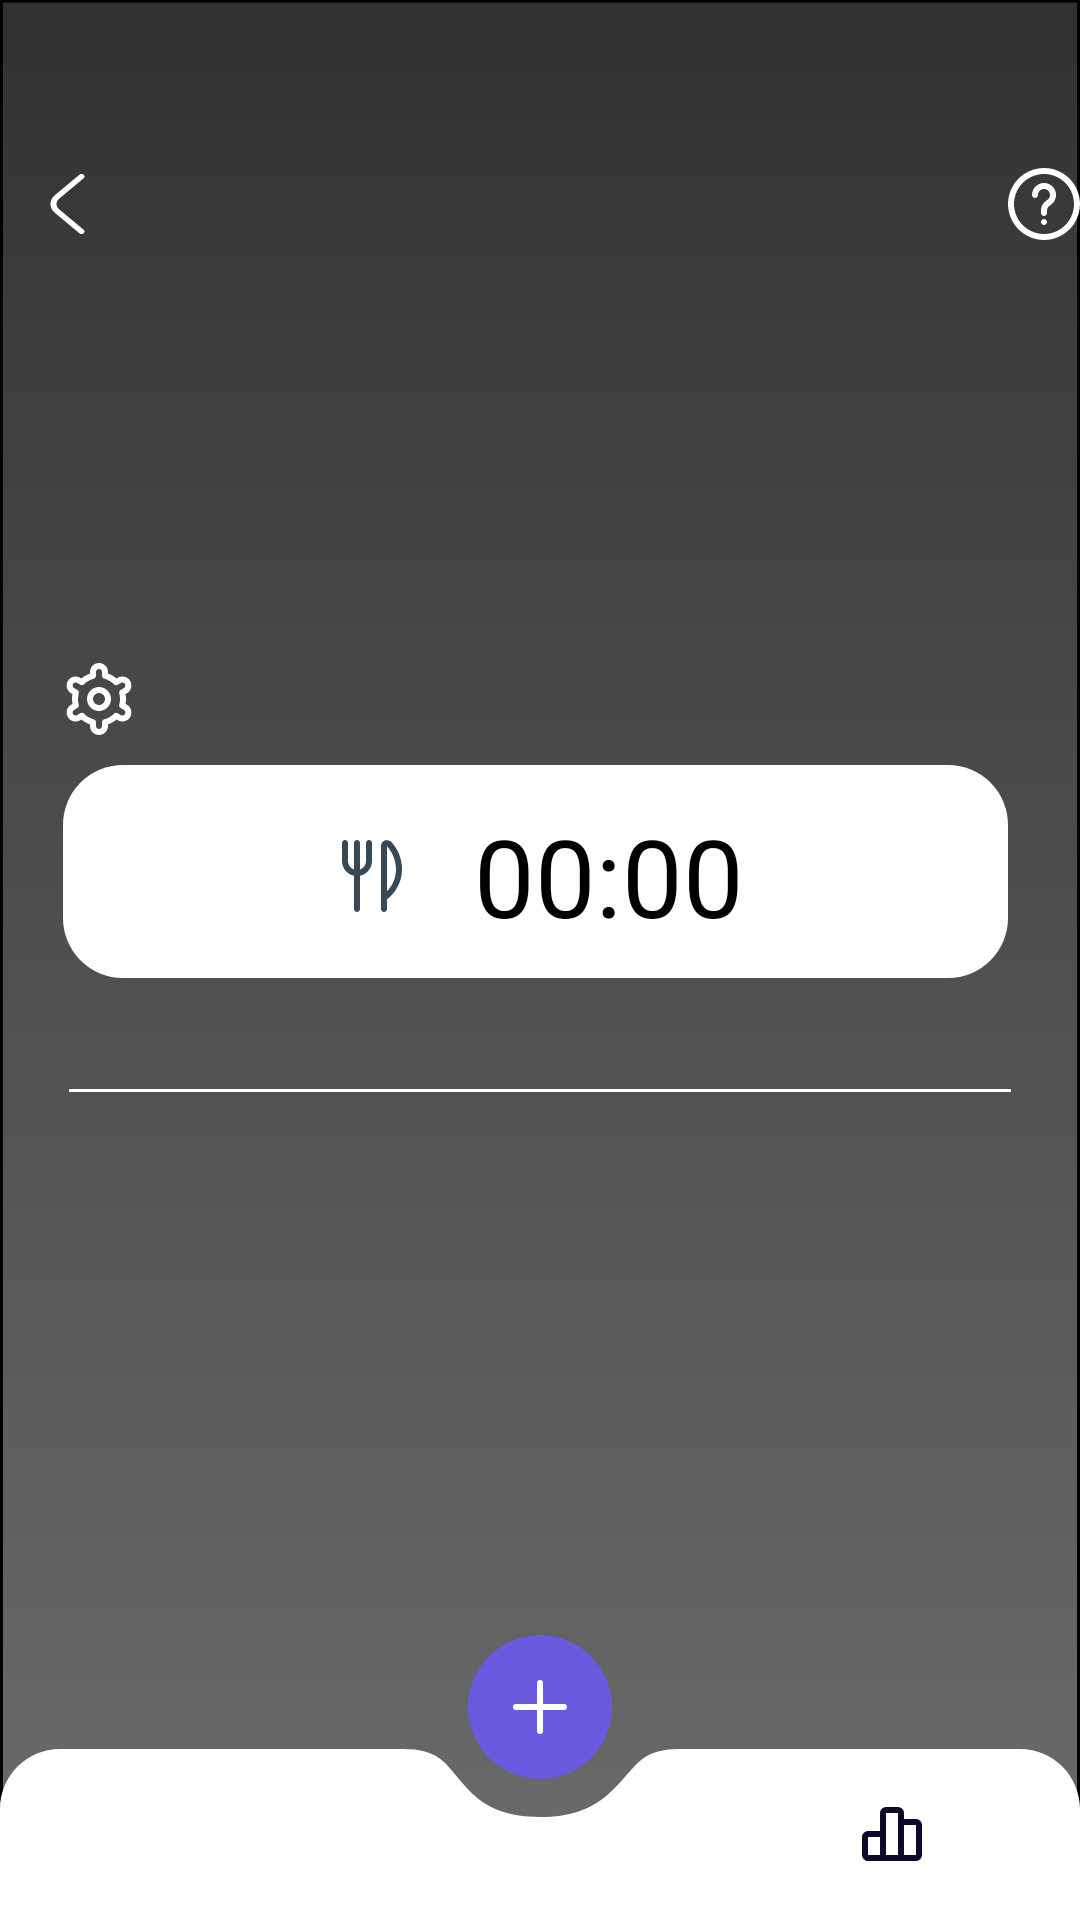

Named icons in this screenshot (1080px x 1920px) and their bounding boxes, (x1, y1, x2, y2):
advice: (1008, 168, 1080, 240)
back: (50, 174, 85, 234)
fork: (342, 840, 402, 912)
ranking: (862, 1807, 922, 1861)
setting: (66, 663, 132, 735)
